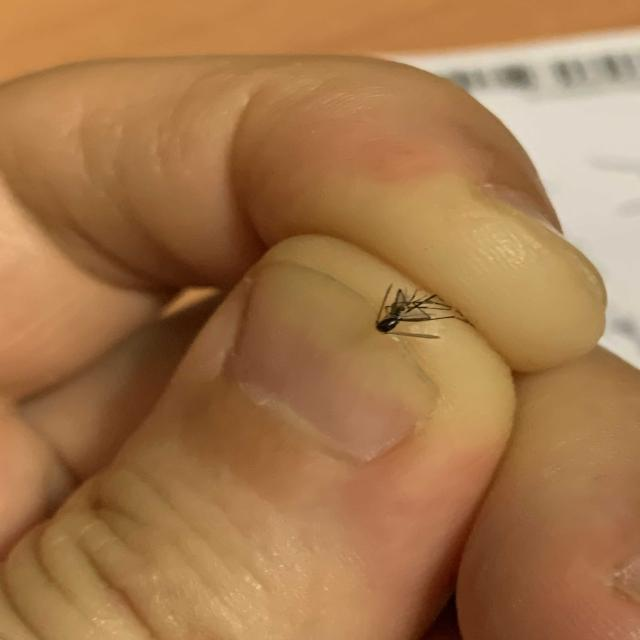albopictus: (363, 279, 473, 348)
